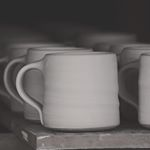cups: (13, 50, 122, 133)
